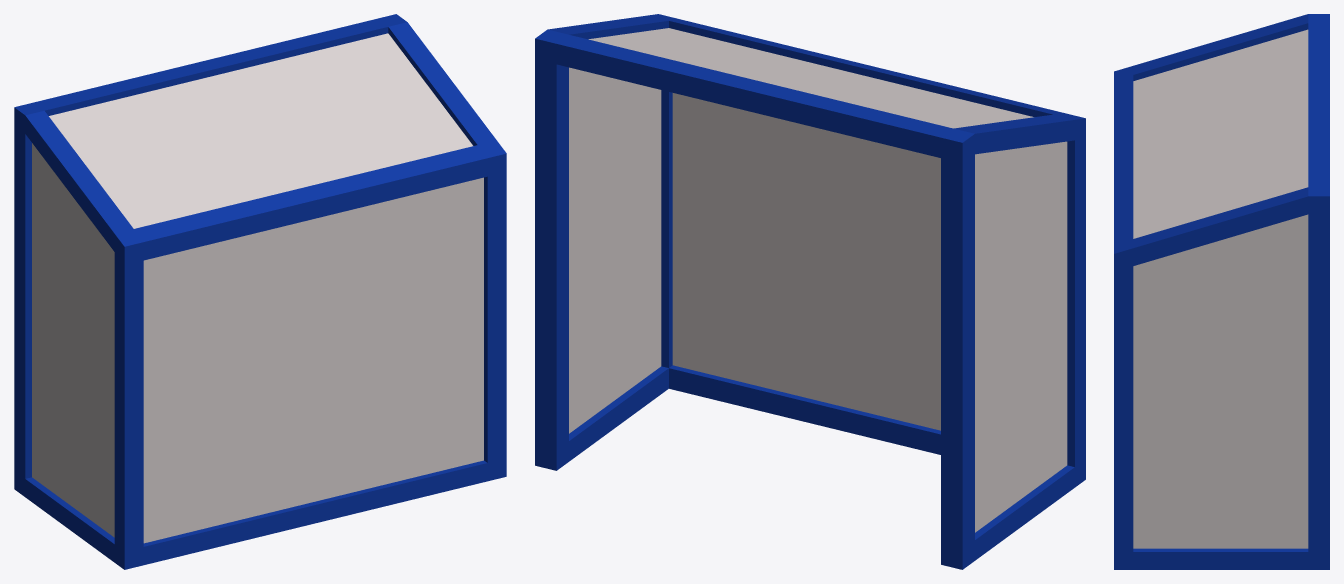
File: But_Bleu_v1.FBX
The picture shows the model from 3 angles, left to right: view 1: azimuth 30°, elevation 25°; view 2: azimuth 150°, elevation 25°; view 3: azimuth 270°, elevation 25°; orthographic projection. The views are drawn at different scales.
Visible parts, largest first — view 1: Cage002; view 2: Cage002; view 3: Cage002.
Boxes of the visible parts, bbox=[...] form: Cage002: bbox=[14, 14, 506, 569]; Cage002: bbox=[535, 14, 1085, 569]; Cage002: bbox=[1114, 14, 1329, 569].
Bounding box in the file's own units: 199 × 190 × 99.31.
